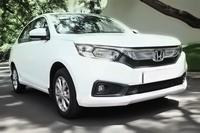Car hood: (57, 31, 182, 48)
Driver-s door - -F-R-: (27, 15, 49, 89)
Fender - -F-R-: (49, 31, 80, 93)
Front bumper: (69, 55, 191, 110)
Headlight - -R-: (73, 41, 123, 62)
Passenger-s door - -R-R-: (12, 18, 28, 82)
Side bumper - -R-: (17, 76, 52, 97)
Side mirror - -L-: (130, 27, 144, 38)
Side mirror - -R-: (27, 27, 51, 42)
